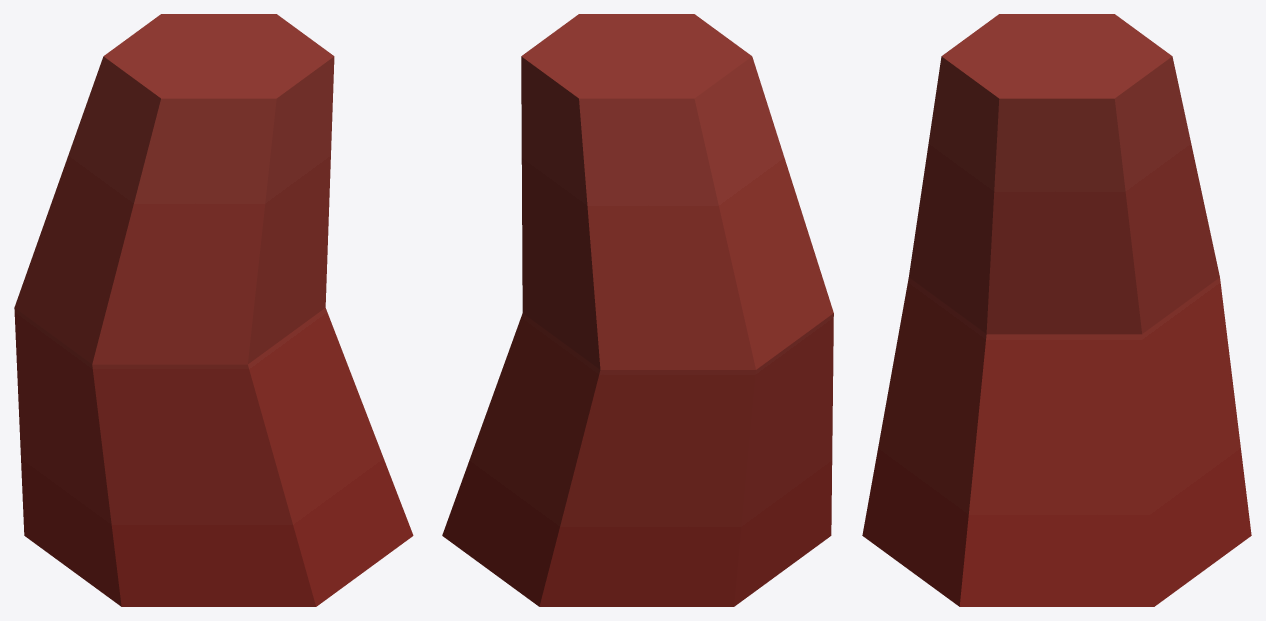
Rendered from Tree2.glb.
The picture shows the model from 3 angles, left to right: view 1: azimuth 30°, elevation 25°; view 2: azimuth 150°, elevation 25°; view 3: azimuth 270°, elevation 25°; orthographic projection.
Parts seen in each view (by area): view 1: Cylinder; view 2: Cylinder; view 3: Cylinder.
Part boxes in pixels (bbox=[...]): Cylinder: bbox=[14, 14, 413, 606]; Cylinder: bbox=[442, 14, 833, 606]; Cylinder: bbox=[862, 14, 1251, 606].
Size of the model in its own units: 1.16 by 1.73 by 1.27.
1 material, 1 textured.
